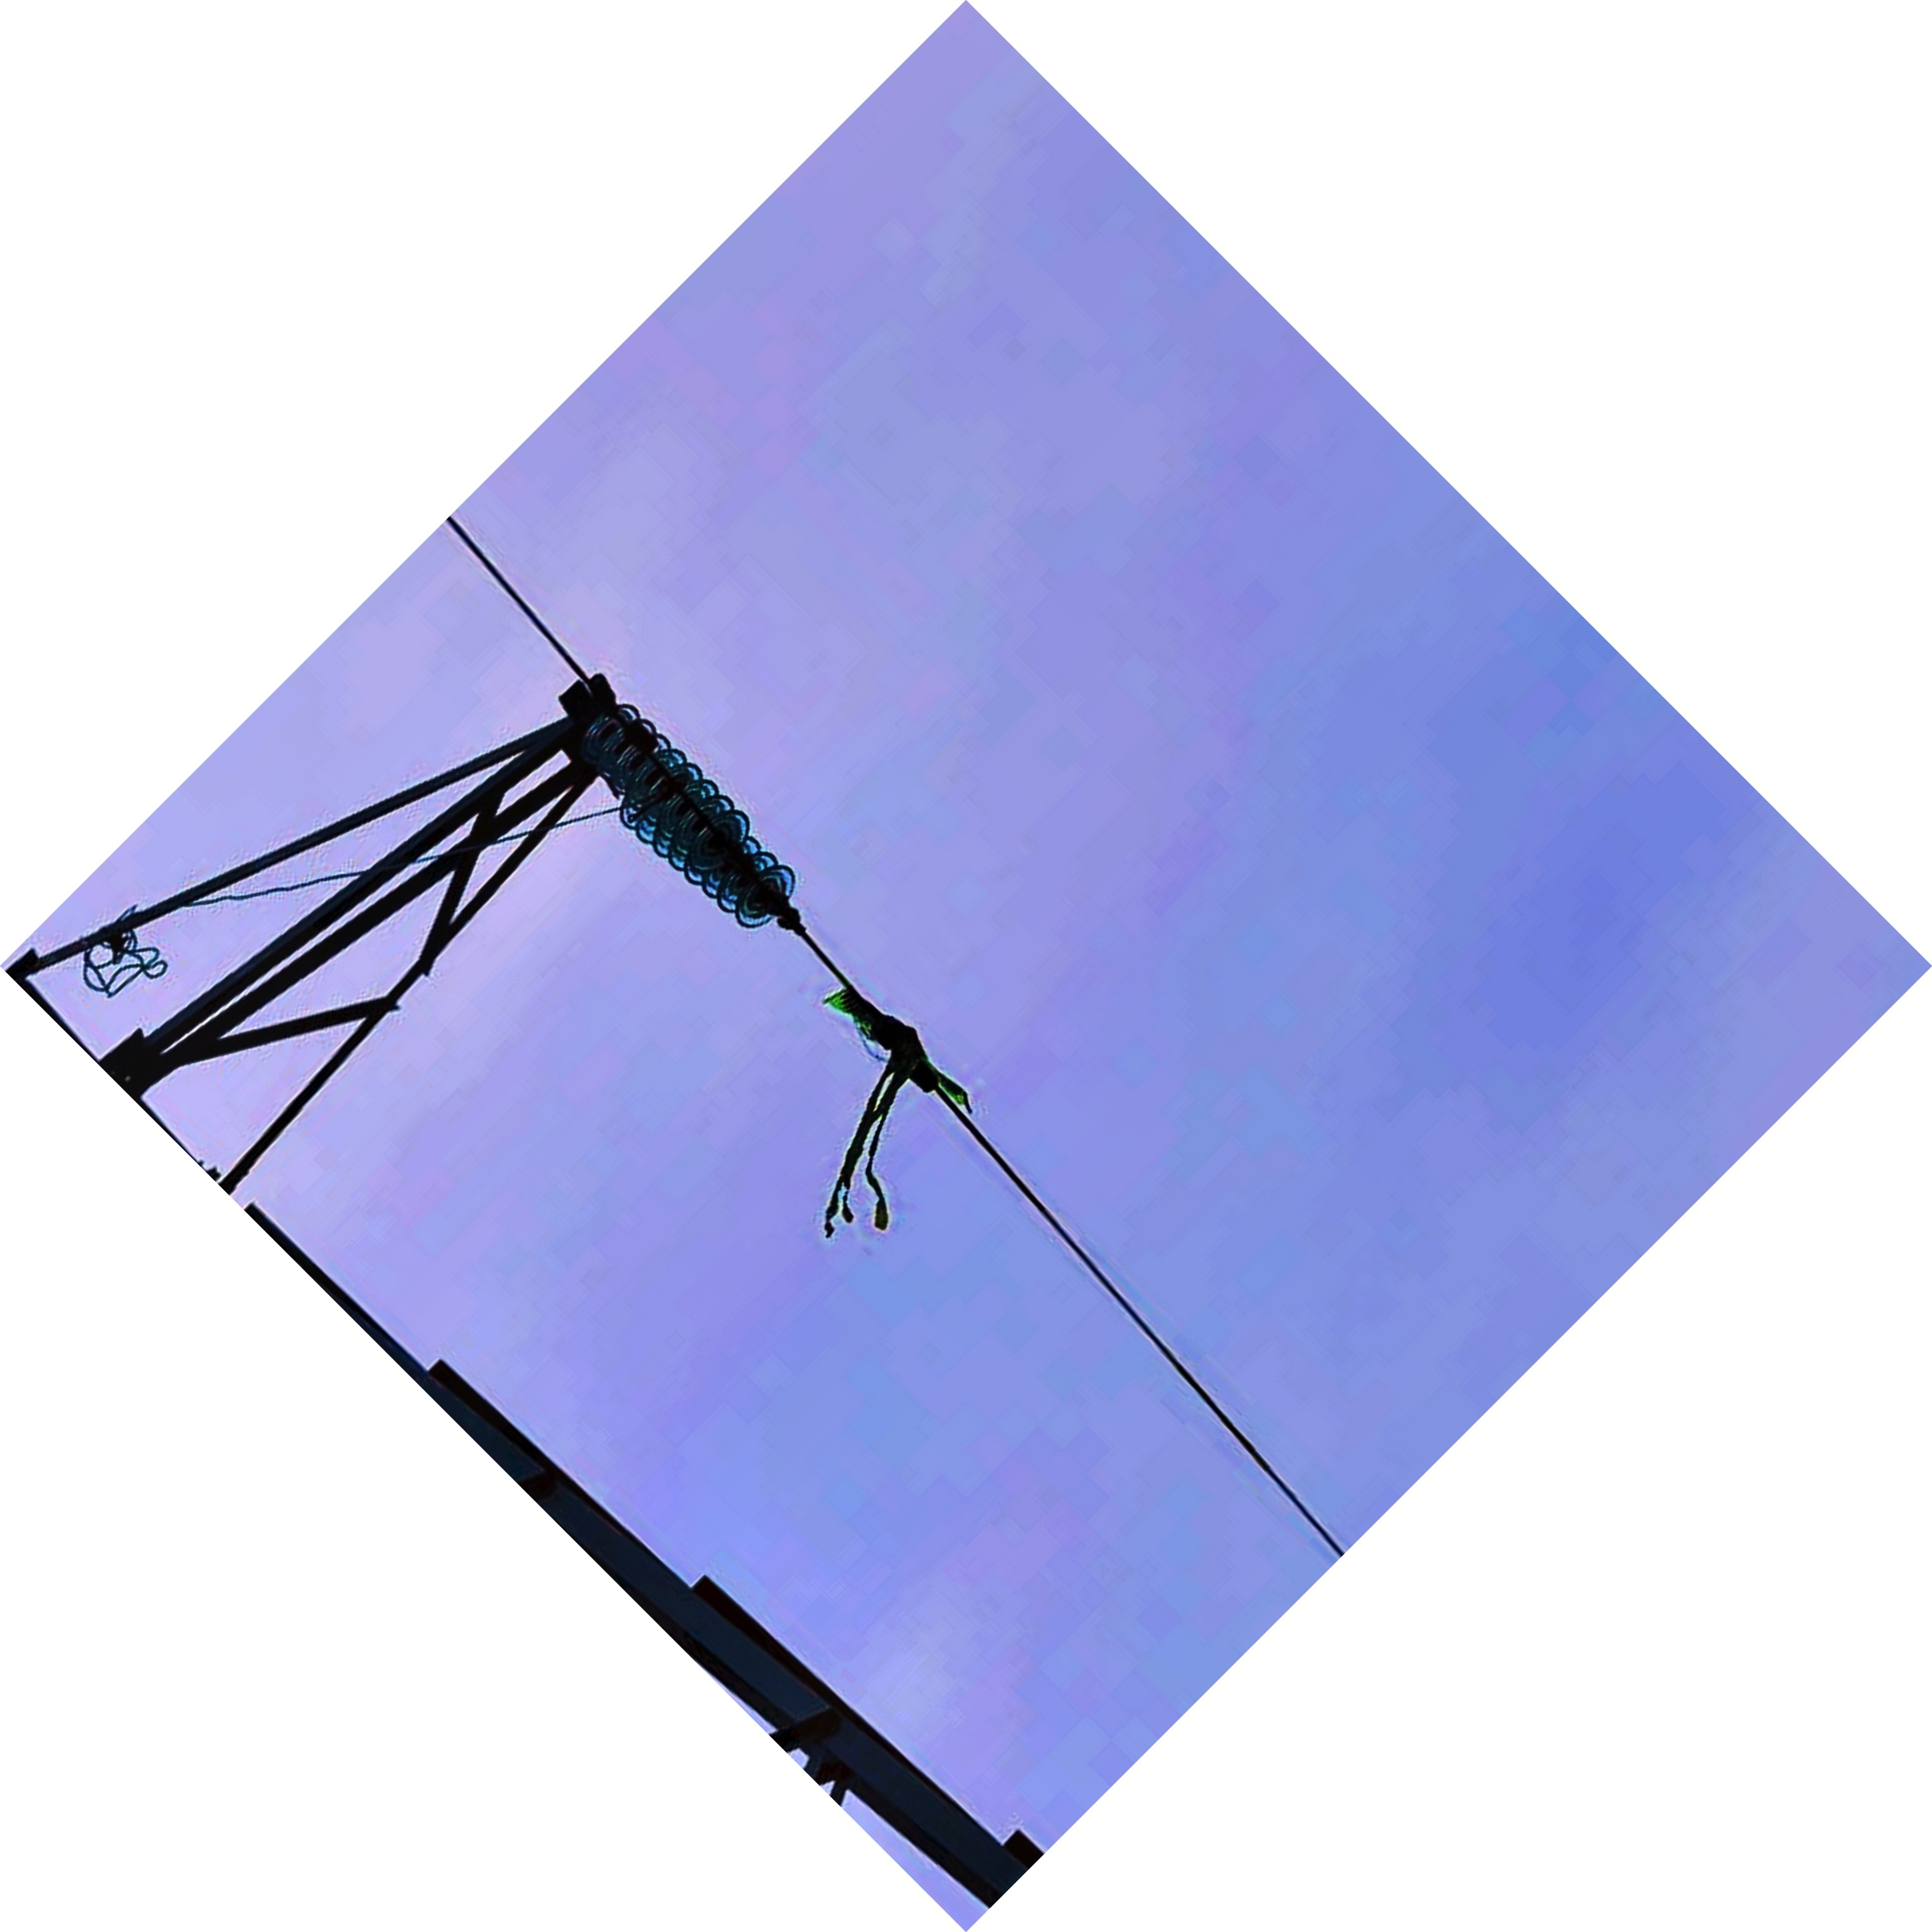wire foreign body: (764, 971, 1000, 1254)
